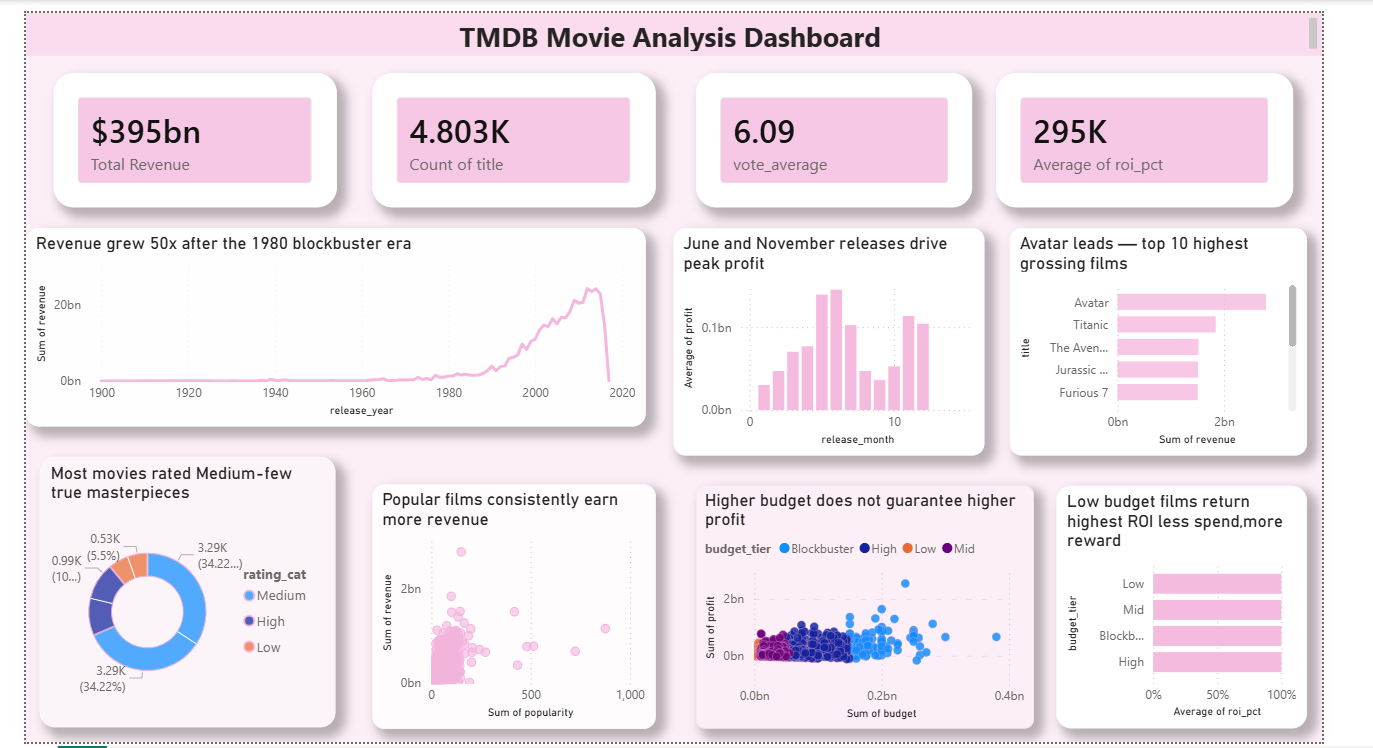

This screenshot's page, from the dashboard's own definition file:
{"tool":"powerbi","page":{"name":"Page 1","canvas":[1280,720],"ordinal":0},"visuals":[{"type":"hundredPercentStackedBarChart","title":"Low budget films return highest ROI less spend,more reward","fields":{"Category":["in.budget_tier"],"Y":["Avg(in.roi_pct)"]},"box":[1016.8,466.6,248.4,240.1],"z":0},{"type":"scatterChart","title":"Popular films consistently earn more revenue","fields":{"X":["Sum(in.popularity)"],"Y":["Sum(in.revenue)"],"Category":["in.title"]},"box":[341.7,465.2,279.9,241.5],"z":1000},{"type":"lineChart","title":"Revenue grew 50x after the 1980 blockbuster era","fields":{"Category":["in.release_year"],"Y":["Sum(in.revenue)"]},"box":[0,212.7,612,196.2],"z":2000},{"type":"cardVisual","fields":{"Data":["Sum(in.revenue)"]},"box":[27.4,59,279.9,133.1],"z":7000},{"type":"cardVisual","fields":{"Data":["Avg(in.vote_average)"]},"box":[661.4,59,273.1,133.1],"z":8000},{"type":"cardVisual","fields":{"Data":["Avg(in.roi_pct)"]},"box":[957.8,59,293.7,133.1],"z":9000},{"type":"cardVisual","fields":{"Data":["CountNonNull(in.title)"]},"box":[341.7,59,279.9,133.1],"z":10000},{"type":"donutChart","title":"Most movies rated Medium-few true masterpieces","fields":{"Category":["in.rating_cat"],"Y":["CountNonNull(in.title)","CountNonNull(in.id)"]},"box":[13.7,437.7,292.3,267.6],"z":11000},{"type":"textbox","box":[0,0,1280.3,42.5],"z":12000},{"type":"clusteredBarChart","title":"Avatar leads — top 10 highest grossing films","fields":{"Category":["in.title"],"Y":["Sum(in.revenue)"]},"box":[971.5,212.7,293.7,225],"z":13000},{"type":"columnChart","title":"June and November releases drive peak profit","fields":{"Category":["in.release_month"],"Y":["Avg(in.profit)"]},"box":[639.5,212.7,307.4,225],"z":14000},{"type":"scatterChart","title":"Higher budget does not guarantee higher profit","fields":{"X":["Sum(in.budget)"],"Y":["Sum(in.profit)"],"Series":["in.budget_tier"],"Category":["in.title"]},"box":[661.4,466.6,333.4,240.1],"z":15000}]}

Visuals, with their boxes in screenshot pixels (x1, y1, x2, y2):
"Low budget films return highest ROI less spend,more reward" hundredPercentStackedBarChart: x1=1059 y1=485 x2=1313 y2=730
"Popular films consistently earn more revenue" scatterChart: x1=368 y1=483 x2=654 y2=730
"Revenue grew 50x after the 1980 blockbuster era" lineChart: x1=18 y1=225 x2=644 y2=426
cardVisual - Sum(in.revenue): x1=46 y1=68 x2=332 y2=204
cardVisual - Avg(in.vote_average): x1=695 y1=68 x2=974 y2=204
cardVisual - Avg(in.roi_pct): x1=998 y1=68 x2=1299 y2=204
cardVisual - CountNonNull(in.title): x1=368 y1=68 x2=654 y2=204
"Most movies rated Medium-few true masterpieces" donutChart: x1=32 y1=455 x2=331 y2=729
textbox: x1=18 y1=7 x2=1328 y2=51
"Avatar leads — top 10 highest grossing films" clusteredBarChart: x1=1012 y1=225 x2=1313 y2=455
"June and November releases drive peak profit" columnChart: x1=672 y1=225 x2=987 y2=455
"Higher budget does not guarantee higher profit" scatterChart: x1=695 y1=485 x2=1036 y2=730
